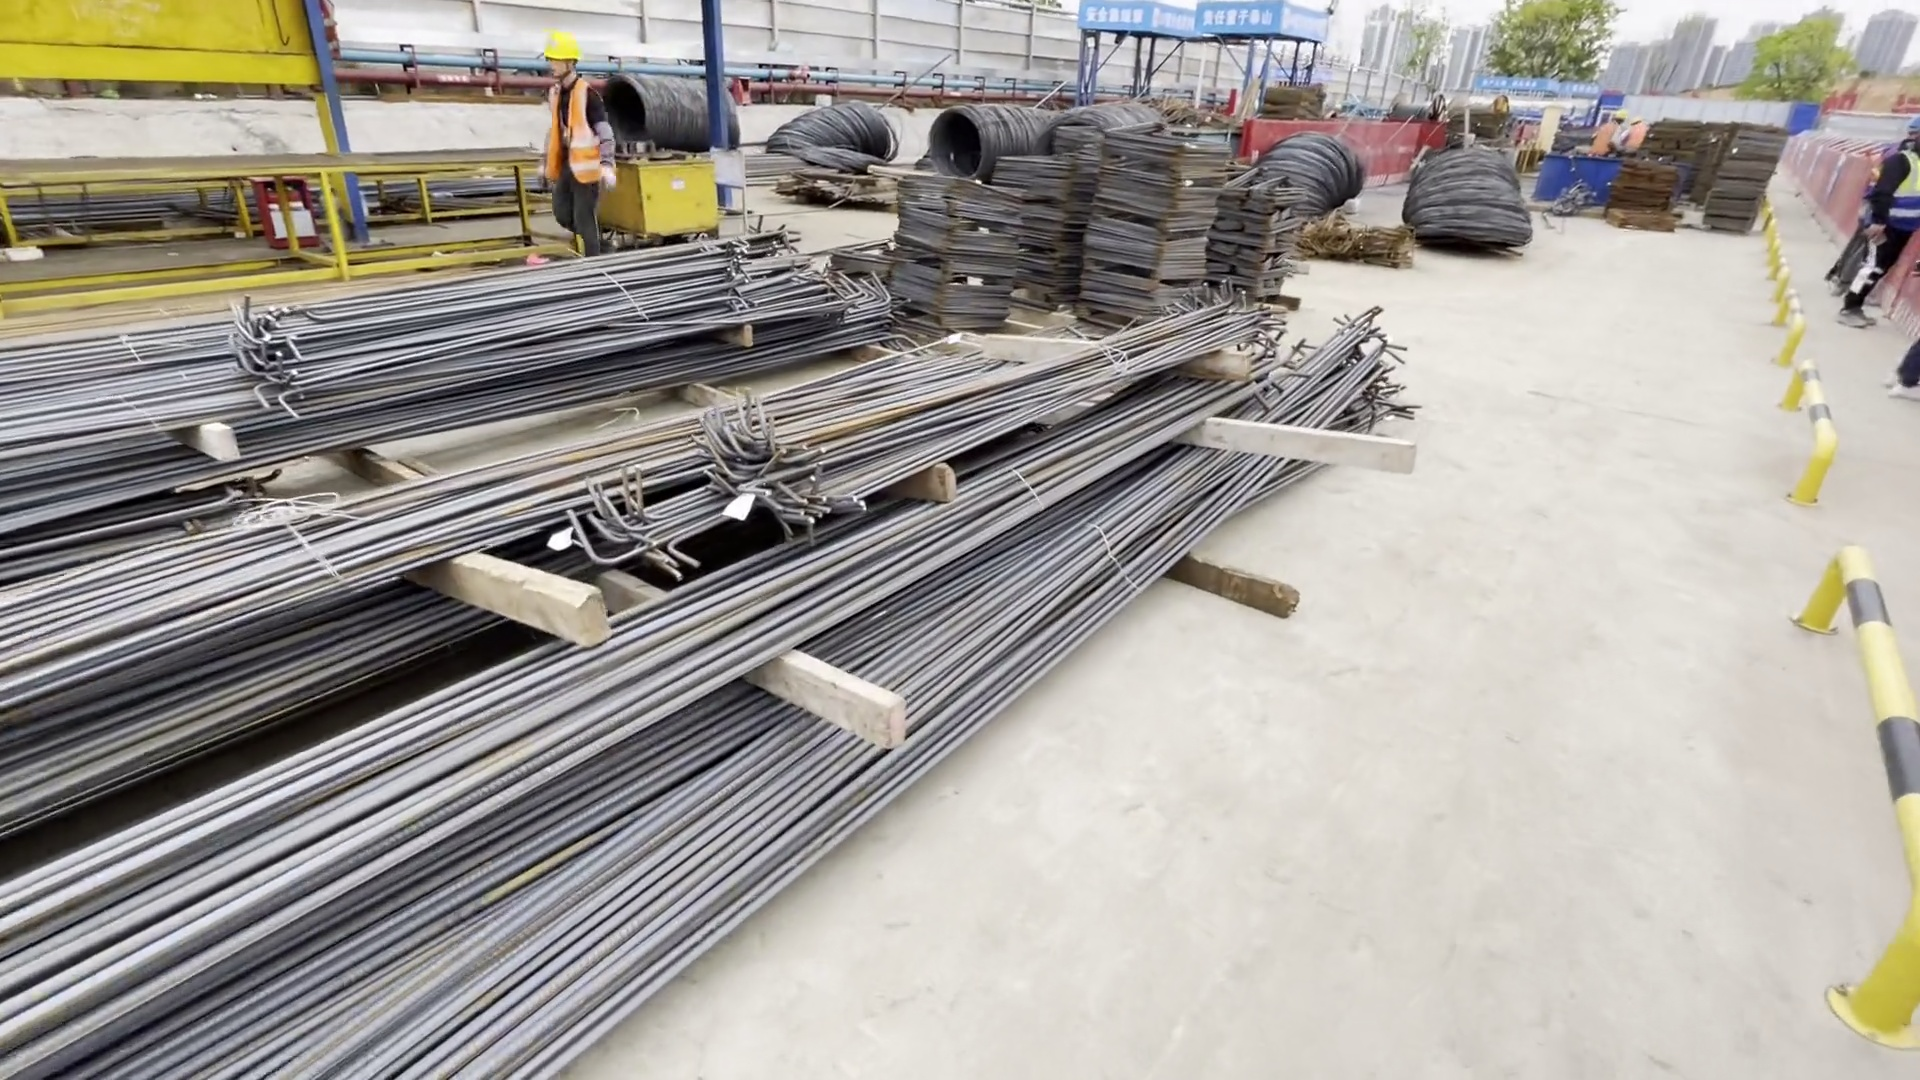fence: (1234, 127, 1457, 199), (1802, 141, 1860, 230)
helmet: (541, 30, 582, 60)
person: (538, 31, 615, 255), (1837, 134, 1920, 324), (1590, 107, 1623, 157), (1628, 116, 1646, 156)
rebar: (1, 309, 1372, 1079), (1, 232, 888, 531)
vest: (542, 83, 604, 186)
